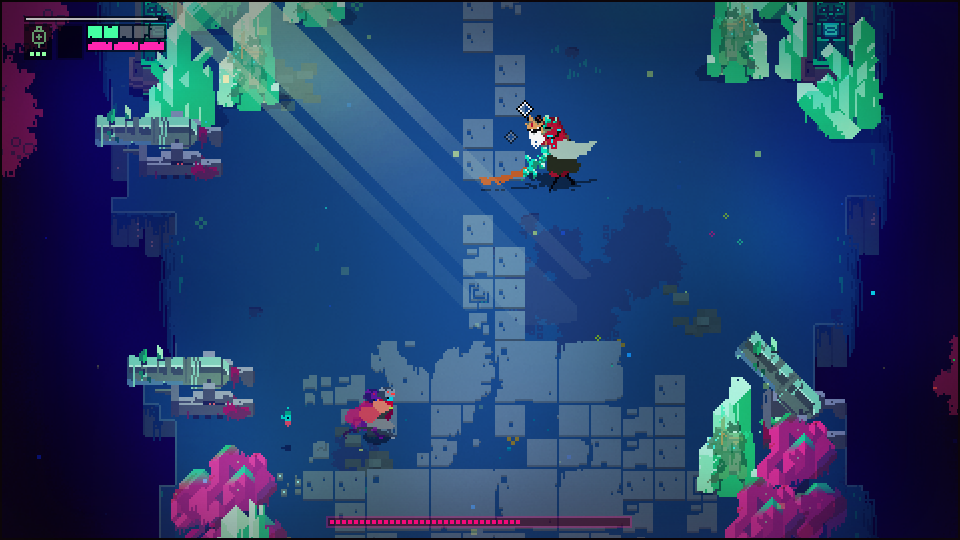hanged_man: (510, 111, 601, 193)
player: (358, 382, 400, 438)
